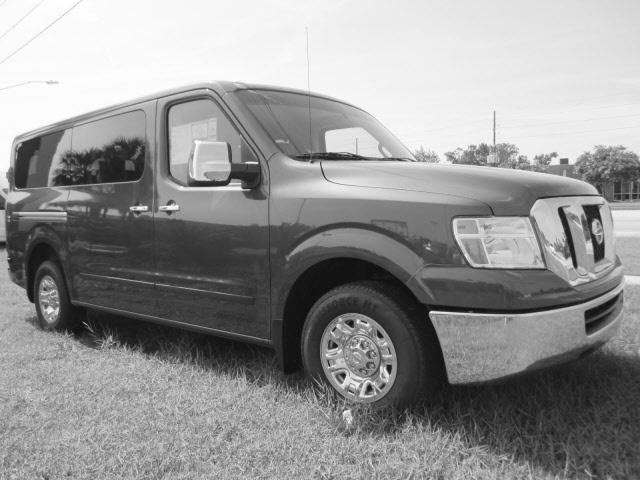car: (1, 74, 632, 429)
